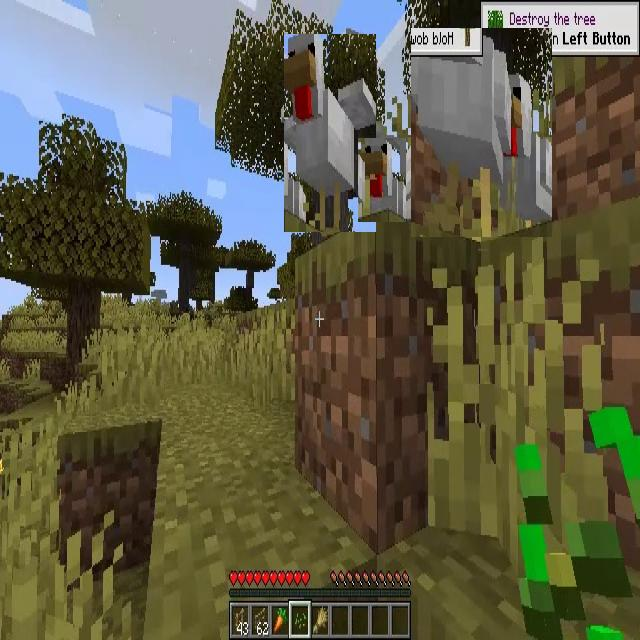duck: (411, 28, 552, 237), (284, 34, 376, 232), (358, 138, 406, 222)
